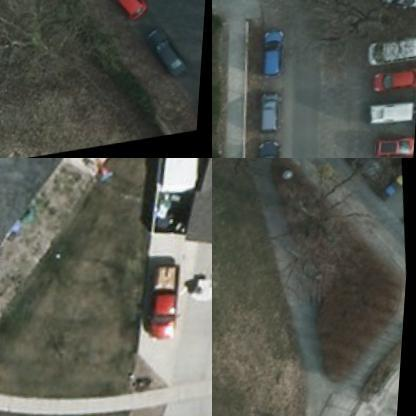camping car: (152, 158, 211, 194)
car: (151, 27, 197, 82), (336, 158, 392, 187), (370, 36, 415, 72), (264, 29, 294, 80), (372, 95, 415, 130), (264, 88, 293, 136), (110, 0, 157, 28), (378, 68, 415, 100), (379, 135, 415, 157), (260, 140, 293, 157), (380, 0, 415, 12)
pickup: (144, 264, 197, 340)
